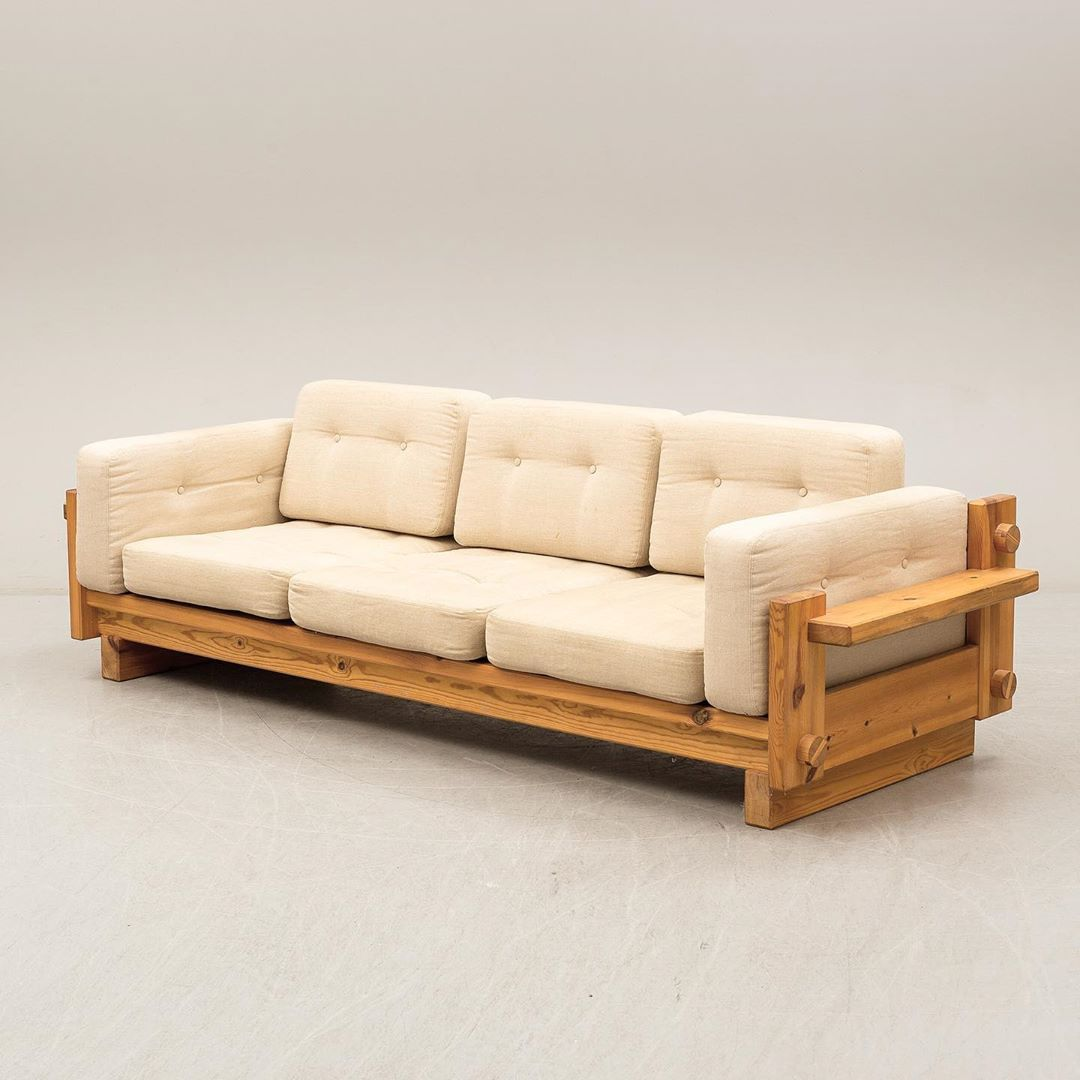3seatersofa: (65, 380, 1037, 827)
backrest: (279, 380, 902, 575)
base: (95, 594, 763, 767)
leftarmrest: (706, 488, 1037, 794)
leg: (745, 720, 978, 832), (101, 635, 202, 681)
rightarmrest: (65, 420, 291, 637)
seat: (121, 520, 704, 703)
